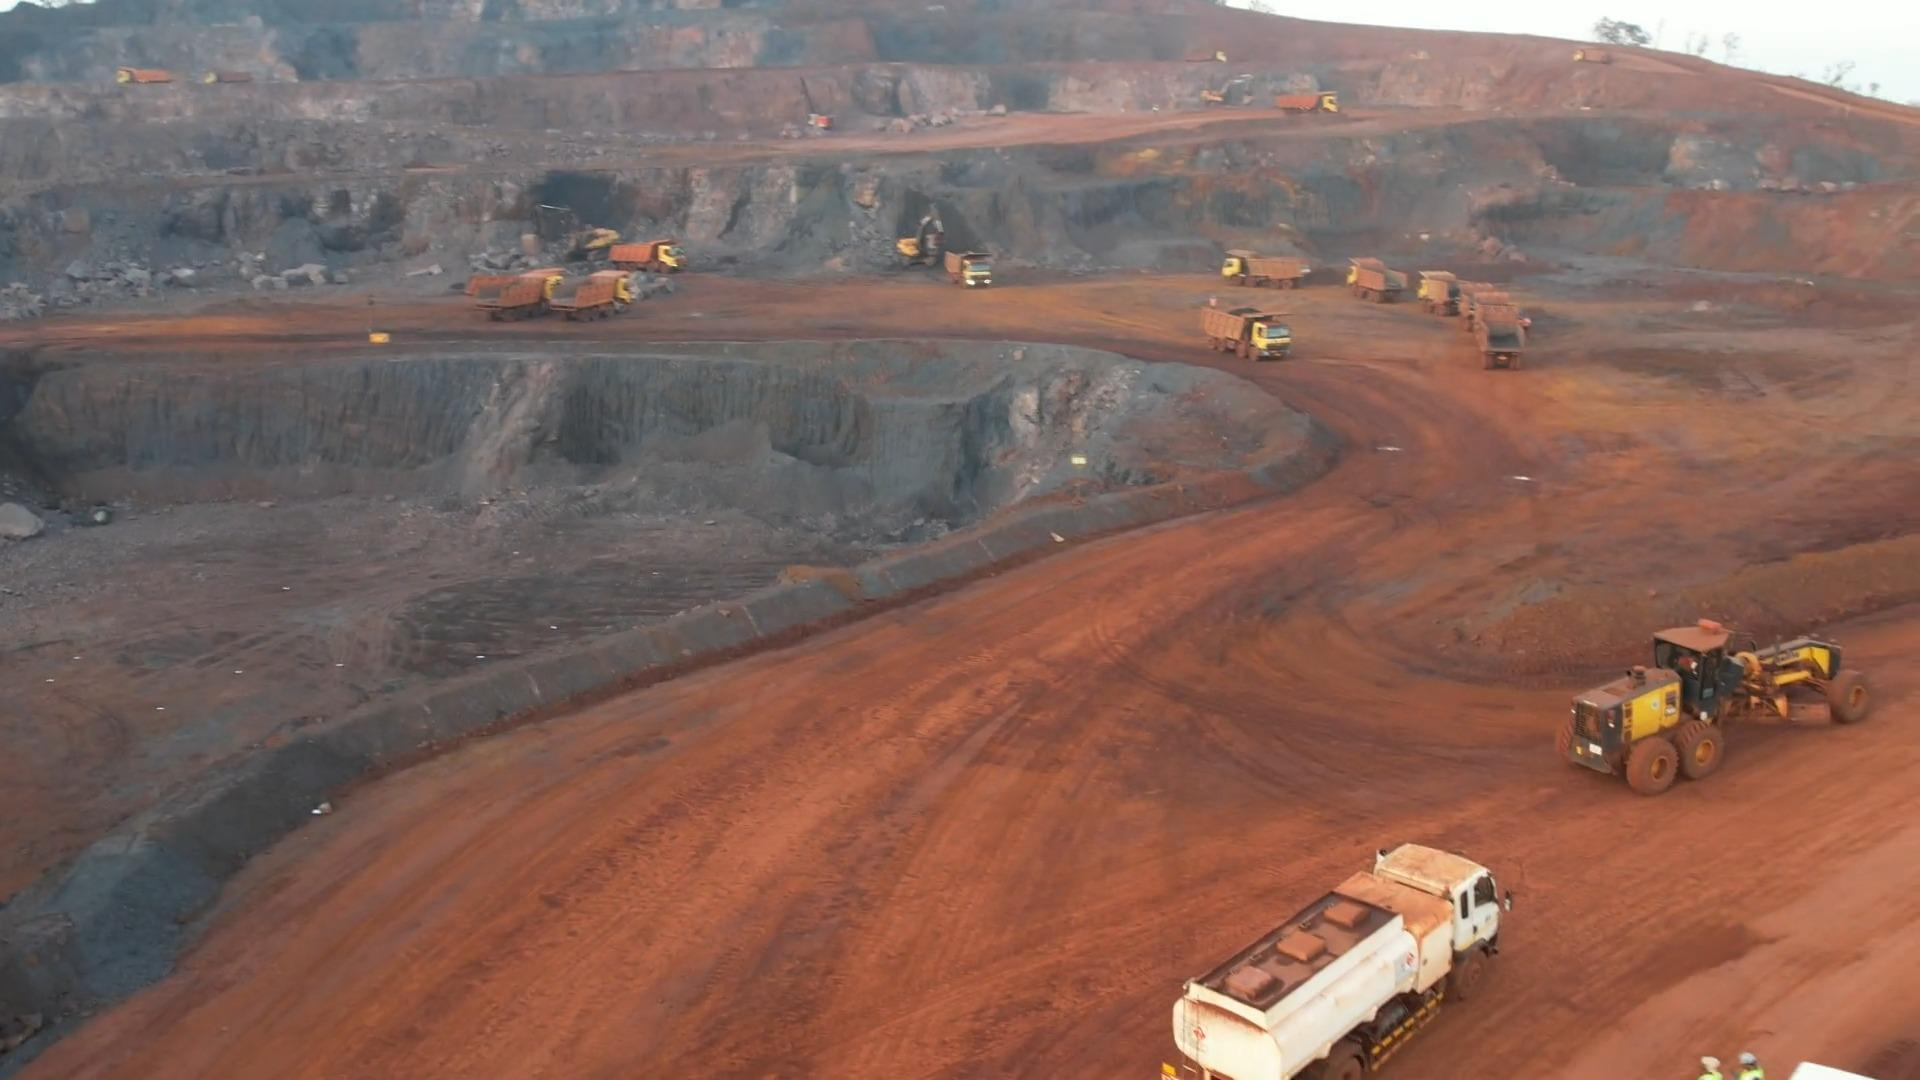excavator: (524, 199, 608, 263), (888, 208, 946, 270)
